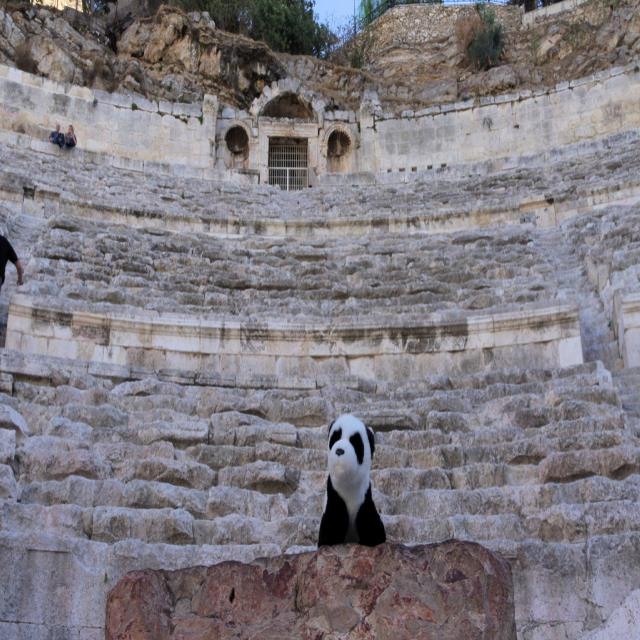panda: (319, 409, 389, 546)
